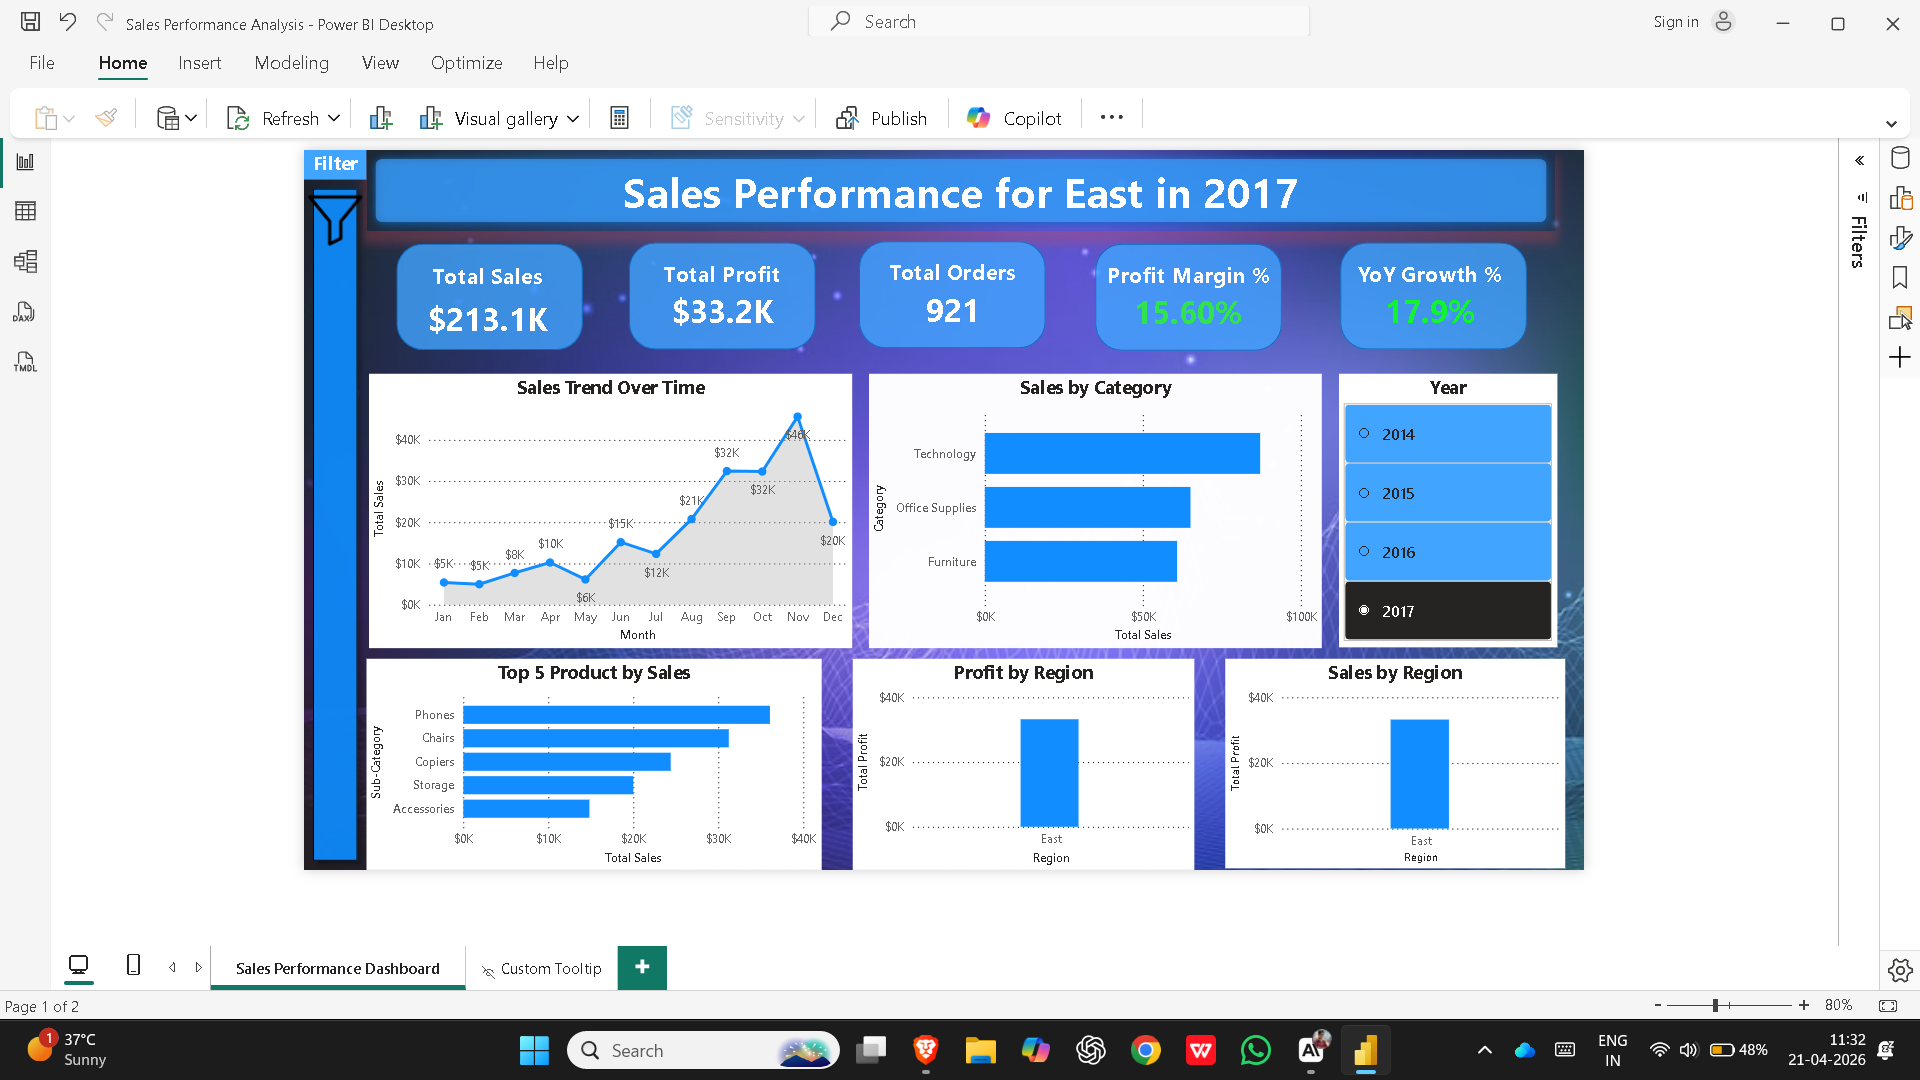

What the dashboard file says about the page in this screenshot:
{"tool":"powerbi","page":{"name":"Sales Performance Dashboard","canvas":[1280,720],"ordinal":0},"visuals":[{"type":"shape","title":"Filter","box":[0,0,62.5,720],"z":0,"group":"g1"},{"type":"shape","box":[62.6,0,1189,81],"z":1000},{"type":"actionButton","title":"Open Button","box":[0,31.2,62.5,78.8],"z":1000,"group":"g1"},{"type":"lineChart","title":"Sales Trend Over Time","fields":{"Category":["DateTable.Month"],"Y":["Key Measures.Total Sales"]},"box":[64.9,223.6,483.3,274.1],"z":3000},{"type":"barChart","title":"Sales by Category","fields":{"Category":["Sales_Data.Category"],"Y":["Key Measures.Total Sales"]},"box":[565.6,223.6,453,274.1],"z":4000},{"type":"clusteredColumnChart","title":"Sales by Region","fields":{"Category":["Sales_Data.Region"],"Y":["Key Measures.Total Profit"]},"box":[921.5,509.2,339.9,209.8],"z":5000},{"type":"columnChart","title":" Profit by Region","fields":{"Category":["Sales_Data.Region"],"Y":["Key Measures.Total Profit"]},"box":[548.9,508.8,341.2,211.2],"z":6000},{"type":"clusteredBarChart","title":"Top 5 Product by Sales","fields":{"Category":["Sales_Data.Sub-Category"],"Y":["Key Measures.Total Sales"]},"box":[62.5,508.8,455,211.2],"z":7000},{"type":"group","id":"g1","title":"Filter_Panel","box":[0,0,62.5,720],"z":9000},{"type":"advancedSlicerVisual","fields":{"Values":["DateTable.Year"]},"box":[1035.6,223.3,218.4,273.6],"z":10000},{"type":"shape","box":[92.5,93.8,186.2,106.2],"z":11000},{"type":"card","title":"Total Sales","fields":{"Values":["Key Measures.Total Sales"]},"box":[114.3,110,140,88.6],"z":12000},{"type":"shape","box":[324.9,92.9,186.6,107],"z":13000},{"type":"card","title":"Total Profit","fields":{"Values":["Key Measures.Total Profit"]},"box":[329.5,107.4,177.5,77.9],"z":14000},{"type":"shape","box":[555.6,91.5,186.6,107],"z":15000},{"type":"card","title":"Total Orders","fields":{"Values":["Key Measures.Total Orders"]},"box":[560.1,106.1,177.5,77.9],"z":16000},{"type":"shape","box":[791.7,94,186.6,107],"z":17000},{"type":"card","title":"Profit Margin %","fields":{"Values":["Key Measures.Profit Margin %"]},"box":[796.6,108.9,176.6,77.1],"z":18000},{"type":"shape","box":[1036,92.8,186.6,107],"z":19000},{"type":"card","title":"YoY Growth %","fields":{"Values":["Key Measures.YoY Growth %"]},"box":[1041.4,107.1,170,77.1],"z":20000}]}

Visuals, with their boxes on the page's 1280x720 design canvas (x1, y1, x2, y2). These are canvas units, not pixel positions in the 1920x1080 screenshot, which may show the page scaled, cropped or inside an application window:
"Filter" shape: box=[0, 0, 62, 720]
shape: box=[63, 0, 1252, 81]
"Open Button" actionButton: box=[0, 31, 62, 110]
"Sales Trend Over Time" lineChart: box=[65, 224, 548, 498]
"Sales by Category" barChart: box=[566, 224, 1019, 498]
"Sales by Region" clusteredColumnChart: box=[922, 509, 1261, 719]
" Profit by Region" columnChart: box=[549, 509, 890, 720]
"Top 5 Product by Sales" clusteredBarChart: box=[62, 509, 518, 720]
"Filter_Panel" group: box=[0, 0, 62, 720]
advancedSlicerVisual - DateTable.Year: box=[1036, 223, 1254, 497]
shape: box=[92, 94, 279, 200]
"Total Sales" card: box=[114, 110, 254, 199]
shape: box=[325, 93, 512, 200]
"Total Profit" card: box=[330, 107, 507, 185]
shape: box=[556, 92, 742, 198]
"Total Orders" card: box=[560, 106, 738, 184]
shape: box=[792, 94, 978, 201]
"Profit Margin %" card: box=[797, 109, 973, 186]
shape: box=[1036, 93, 1223, 200]
"YoY Growth %" card: box=[1041, 107, 1211, 184]
